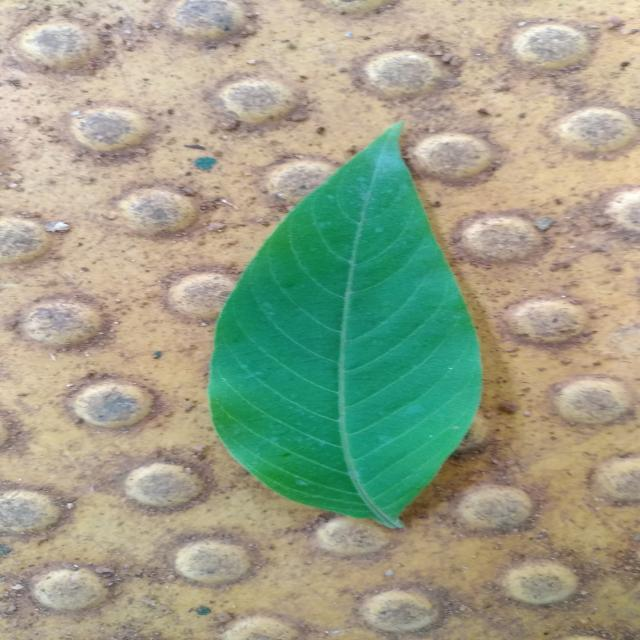malabar_nut: (209, 124, 482, 528)
